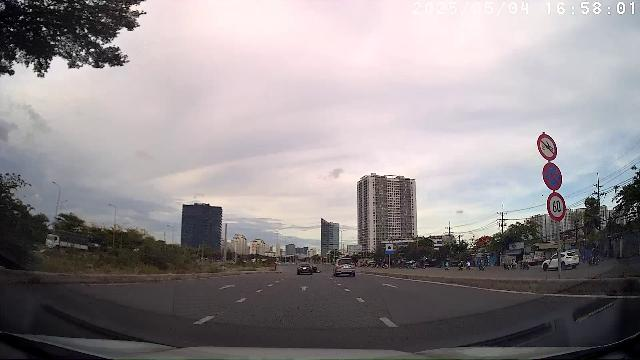127-toc-do-toi-da-60: (546, 193, 566, 221)
130-cam-dung-va-do-xe: (542, 162, 562, 190)
